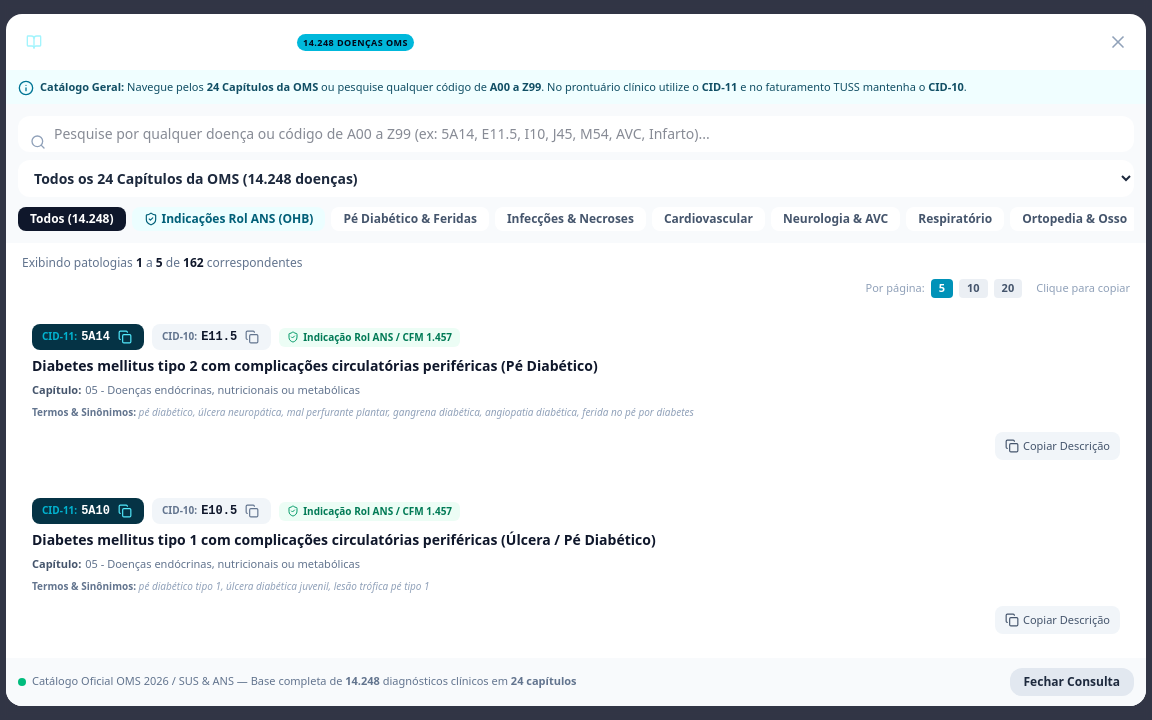
CidLookupModal Component › deve resolver dinamicamente qualquer código CID-10 médico válido (ex: I10 ou J45)
Replace the text in the field with placeholder "Pesquise por qualquer doença ou código" with "I10" at (576, 134), box [18,116,1134,152]
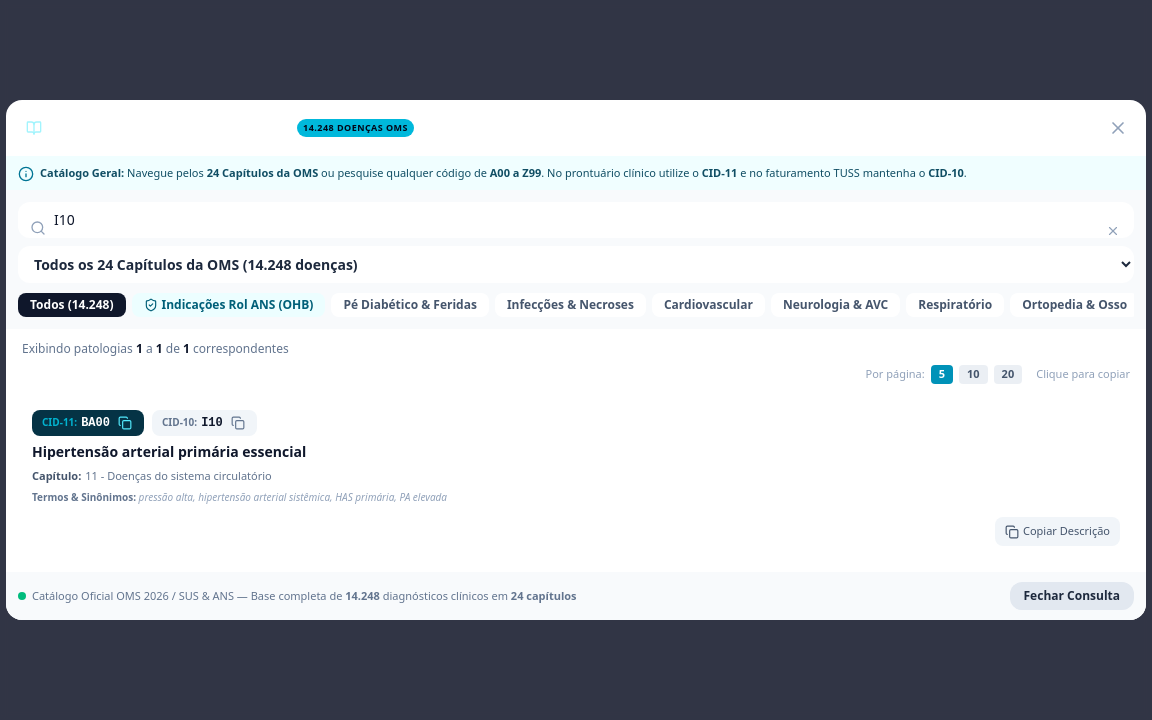
Expected: the text "BA00" is shown, [81,415,110,431]
Expected: the text "I10" is shown, [201,415,223,431]
